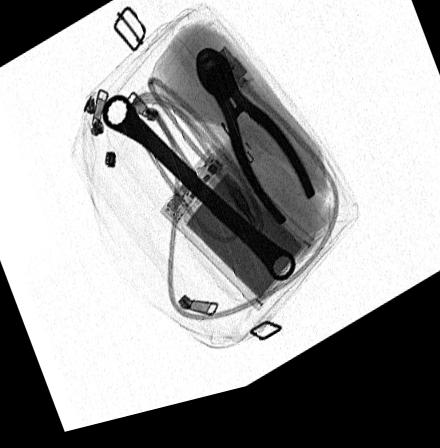Pliers: (193, 59, 313, 244)
Powerbank: (157, 151, 314, 323)
Wrench: (100, 100, 293, 296)
